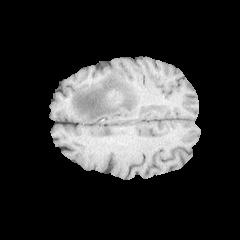glioma: (66, 69, 145, 123)
